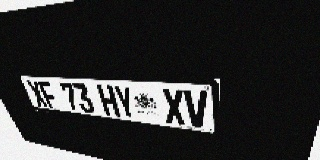3: (72, 83, 96, 114)
7: (58, 82, 82, 112)
F: (37, 81, 60, 109)
H: (96, 84, 121, 117)
V: (184, 90, 208, 128)
X: (161, 88, 186, 125), (26, 80, 49, 107)
Y: (113, 85, 137, 119)
